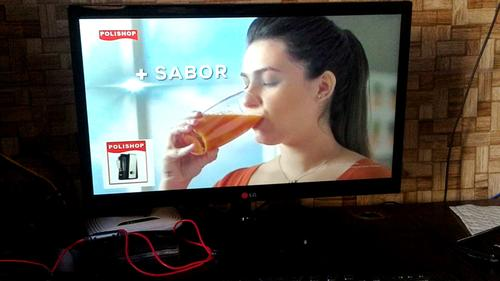Polishop #1: (101, 138, 155, 189)
